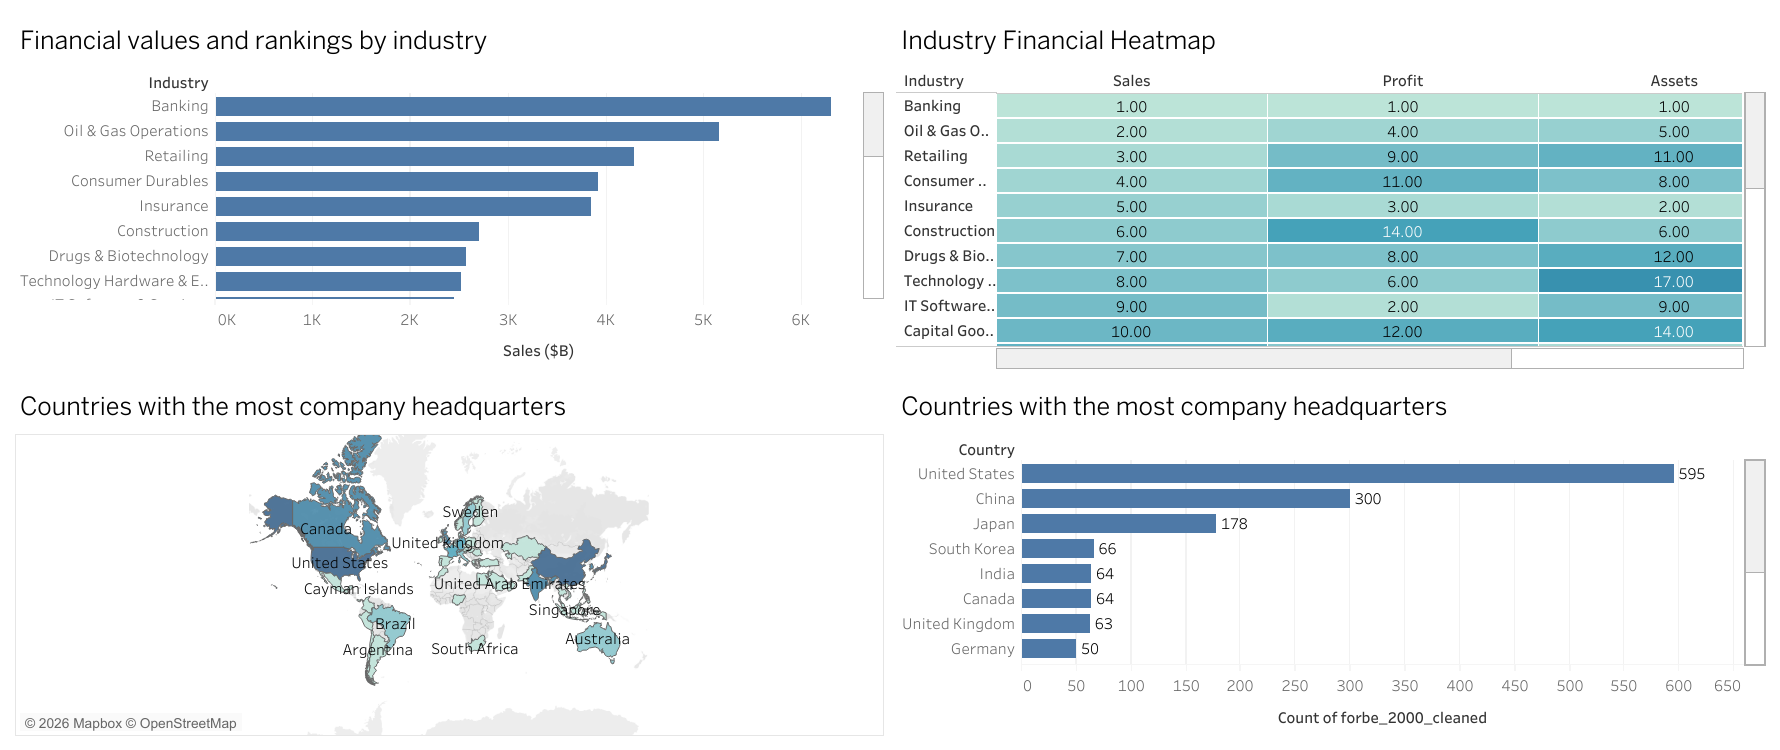

Layout of this report page (visuals, bound fields, positions):
{"tool":"tableau","page":{"name":"Dashboard 1","canvas":[1000,1000],"units":"permille","ordinal":0},"visuals":[{"type":"worksheet","title":"Sheet 1","mark":"Automatic","rows":["Industry"],"cols":["Sales ($B)"],"box":[4.8,9.4,495.2,490.6]},{"type":"worksheet","title":"Sheet 2","mark":"Square","rows":["Industry"],"box":[500,9.4,495.2,490.6]},{"type":"worksheet","title":"Sheet 3","mark":"Automatic","box":[4.8,500,495.2,490.6]},{"type":"worksheet","title":"Sheet 4","mark":"Automatic","rows":["Country"],"cols":["forbe!2000!cleaned_84159E5ACD69450D814AF8F23B01EAF1"],"box":[500,500,495.2,490.6]}]}

Visuals, with their boxes on the dashboard's canvas, which has no fixed pixel size, in thousandths of its width and height (x1, y1, x2, y2). These are canvas units, not pixel positions in the 1780x750 screenshot, which may show the page scaled, cropped or inside an application window:
"Sheet 1" worksheet: 5 9 500 500
"Sheet 2" worksheet (Square marks): 500 9 995 500
"Sheet 3" worksheet: 5 500 500 991
"Sheet 4" worksheet: 500 500 995 991
